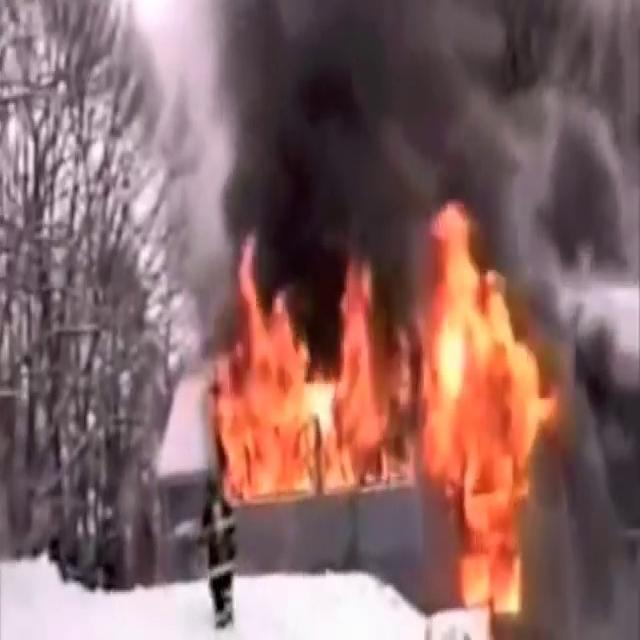Fire: (198, 200, 565, 598)
Smoke: (185, 0, 549, 284)
